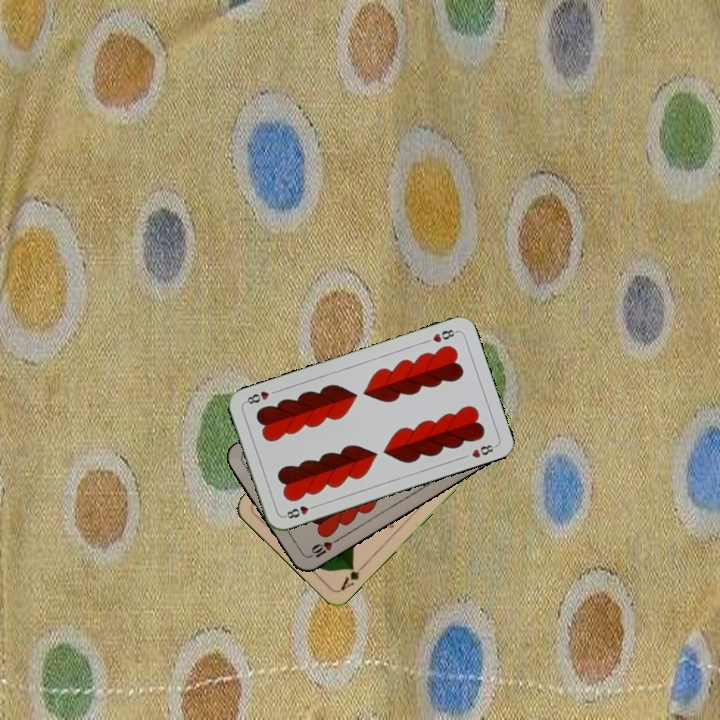GA: (336, 560, 368, 594)
H10: (303, 535, 340, 561)
H8: (280, 501, 320, 521), (428, 325, 460, 345)
